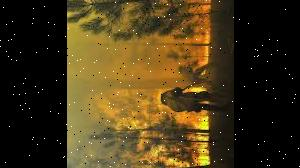fire: (113, 116, 211, 168), (196, 0, 213, 67)
